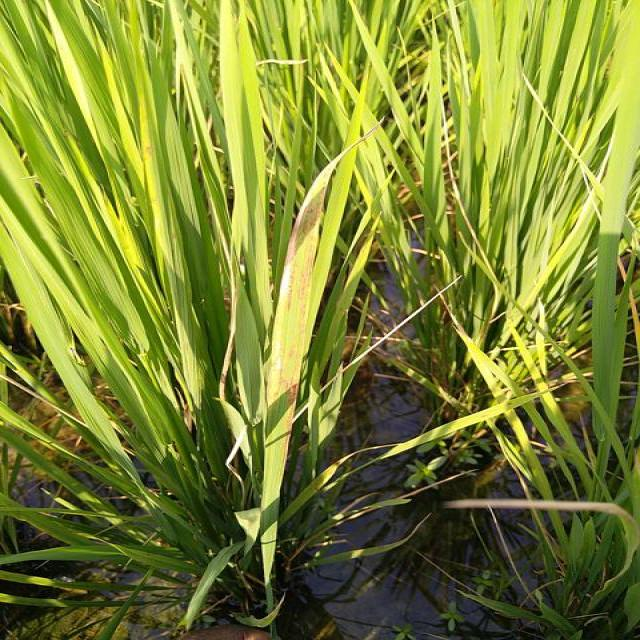Leaf Streak: (263, 161, 337, 485)
